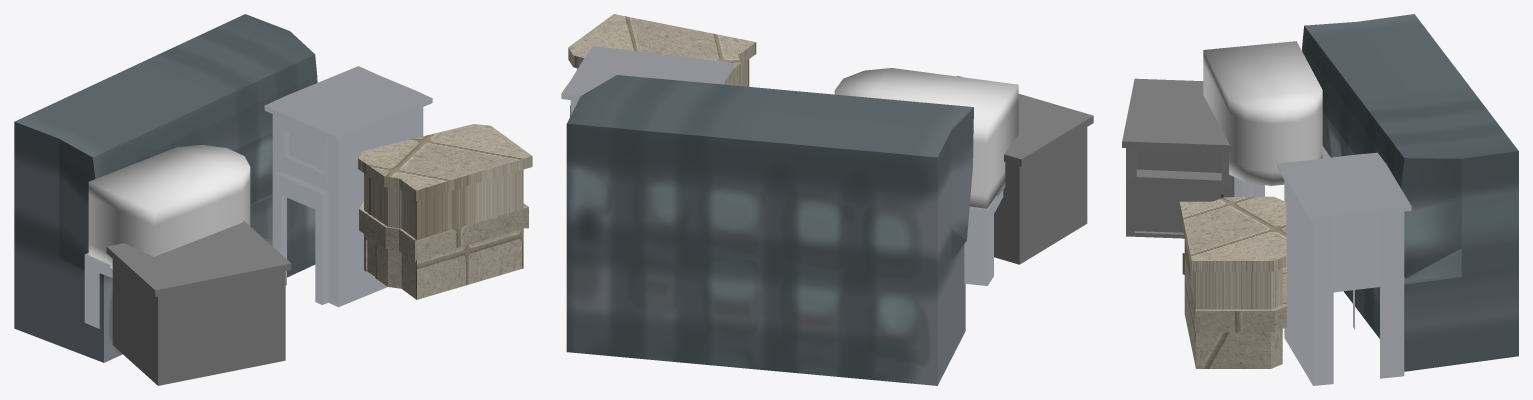
Rendered from building_center.glb.
The picture shows the model from 3 angles, left to right: view 1: azimuth 30°, elevation 25°; view 2: azimuth 150°, elevation 25°; view 3: azimuth 270°, elevation 25°; orthographic projection. The views are drawn at different scales.
Visible parts, largest first — view 1: Cube.087, Cube.093, Cube.091, Cube.090, Cylinder, Cube.015; view 2: Cube.087, Cube.091, Cylinder, Cube.093, Cube.090, Cube.015; view 3: Cube.087, Cube.090, Cube.093, Cube.091, Cylinder, Cube.015.
Boxes of the visible parts, x1,y1,x2,y2 form: Cube.087: [14, 14, 317, 362]; Cube.093: [358, 124, 532, 299]; Cube.091: [106, 221, 291, 385]; Cube.090: [264, 66, 432, 307]; Cylinder: [88, 145, 250, 268]; Cube.015: [84, 253, 112, 328]; Cube.087: [566, 75, 973, 385]; Cube.091: [957, 75, 1093, 264]; Cylinder: [834, 68, 1018, 208]; Cube.093: [568, 14, 756, 116]; Cube.090: [561, 46, 734, 115]; Cube.015: [964, 190, 1003, 285]; Cube.087: [1302, 14, 1518, 371]; Cube.090: [1277, 152, 1411, 385]; Cube.093: [1179, 196, 1286, 368]; Cube.091: [1122, 78, 1234, 238]; Cylinder: [1203, 41, 1322, 185]; Cube.015: [1234, 146, 1330, 196].
Bounding box in the file's own units: 73.49 × 35.81 × 62.74.
Materials: 4 (2 with a texture image).
